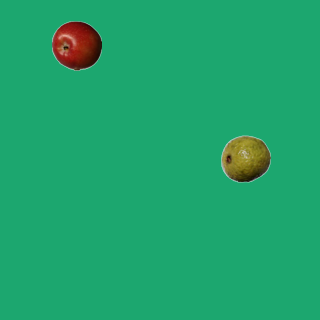Apple Braeburn: (51, 20, 101, 70)
Guava: (220, 133, 270, 183)
